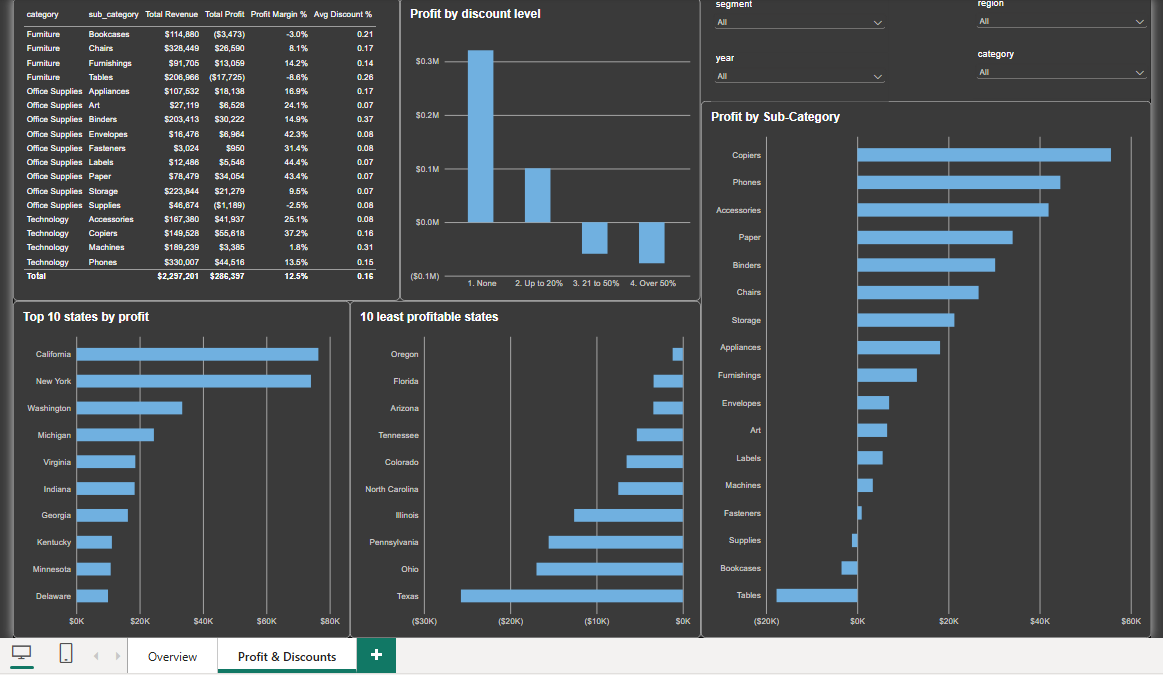

What the dashboard file says about the page in this screenshot:
{"tool":"powerbi","page":{"name":"Profit & Discounts","canvas":[1920,1080],"ordinal":1},"visuals":[{"type":"clusteredColumnChart","title":"Profit by discount level","fields":{"Category":["fact_sales.Discount Band"],"Y":["_Measures.Total Profit"]},"box":[653.5,0,507,510.8],"z":1000},{"type":"clusteredBarChart","title":"Profit by Sub-Category","fields":{"Category":["dim_product.sub_category"],"Y":["_Measures.Total Profit"]},"box":[1160.5,173.5,759.5,906],"z":2000},{"type":"tableEx","fields":{"Values":["dim_product.category","dim_product.sub_category","_Measures.Total Revenue","_Measures.Total Profit","_Measures.Profit Margin %","_Measures.Avg Discount %"]},"box":[0,0,653.5,510.8],"z":3000},{"type":"slicer","fields":{"Values":["dim_location.region"]},"box":[1620.3,0,299.7,85.9],"z":4000},{"type":"slicer","fields":{"Values":["dim_date.year"]},"box":[1177.8,92.5,299.7,81.9],"z":5000},{"type":"slicer","fields":{"Values":["dim_customer.segment"]},"box":[1177.8,1.9,299.7,89.9],"z":6000},{"type":"slicer","fields":{"Values":["dim_product.category"]},"box":[1620.3,85.9,299.7,83.9],"z":7000},{"type":"clusteredBarChart","title":"Top 10 states by profit","fields":{"Category":["dim_location.state"],"Y":["_Measures.Total Profit"]},"box":[0,510.8,568.7,568.7],"z":7001},{"type":"clusteredBarChart","title":"10 least profitable states","fields":{"Category":["dim_location.state"],"Y":["_Measures.Total Profit"]},"box":[568.7,510.8,591.8,568.7],"z":7002}]}

Visuals, with their boxes in screenshot pixels (x1, y1, x2, y2):
"Profit by discount level" clusteredColumnChart: <bbox>396, 0, 699, 296</bbox>
"Profit by Sub-Category" clusteredBarChart: <bbox>699, 95, 1153, 636</bbox>
tableEx - dim_product.category x dim_product.sub_category: <bbox>6, 0, 396, 296</bbox>
slicer - dim_location.region: <bbox>974, 0, 1153, 42</bbox>
slicer - dim_date.year: <bbox>710, 46, 889, 95</bbox>
slicer - dim_customer.segment: <bbox>710, 0, 889, 46</bbox>
slicer - dim_product.category: <bbox>974, 42, 1153, 92</bbox>
"Top 10 states by profit" clusteredBarChart: <bbox>6, 296, 346, 636</bbox>
"10 least profitable states" clusteredBarChart: <bbox>346, 296, 699, 636</bbox>
